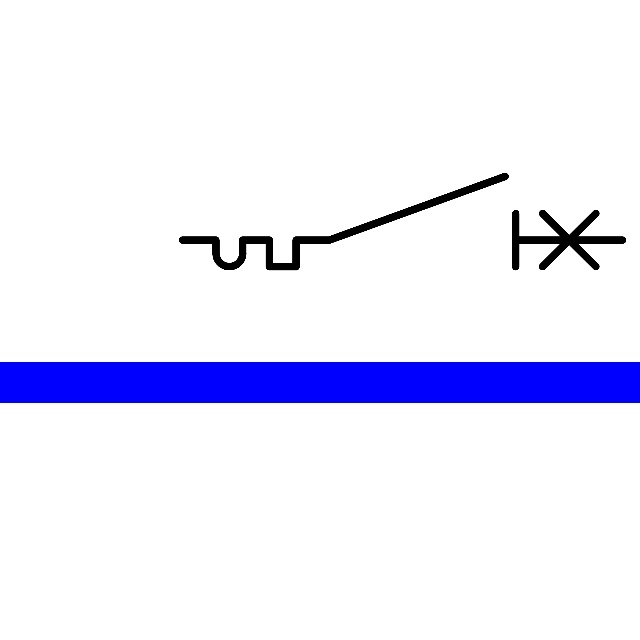interruptor_termomagnetico: (171, 165, 633, 278)
